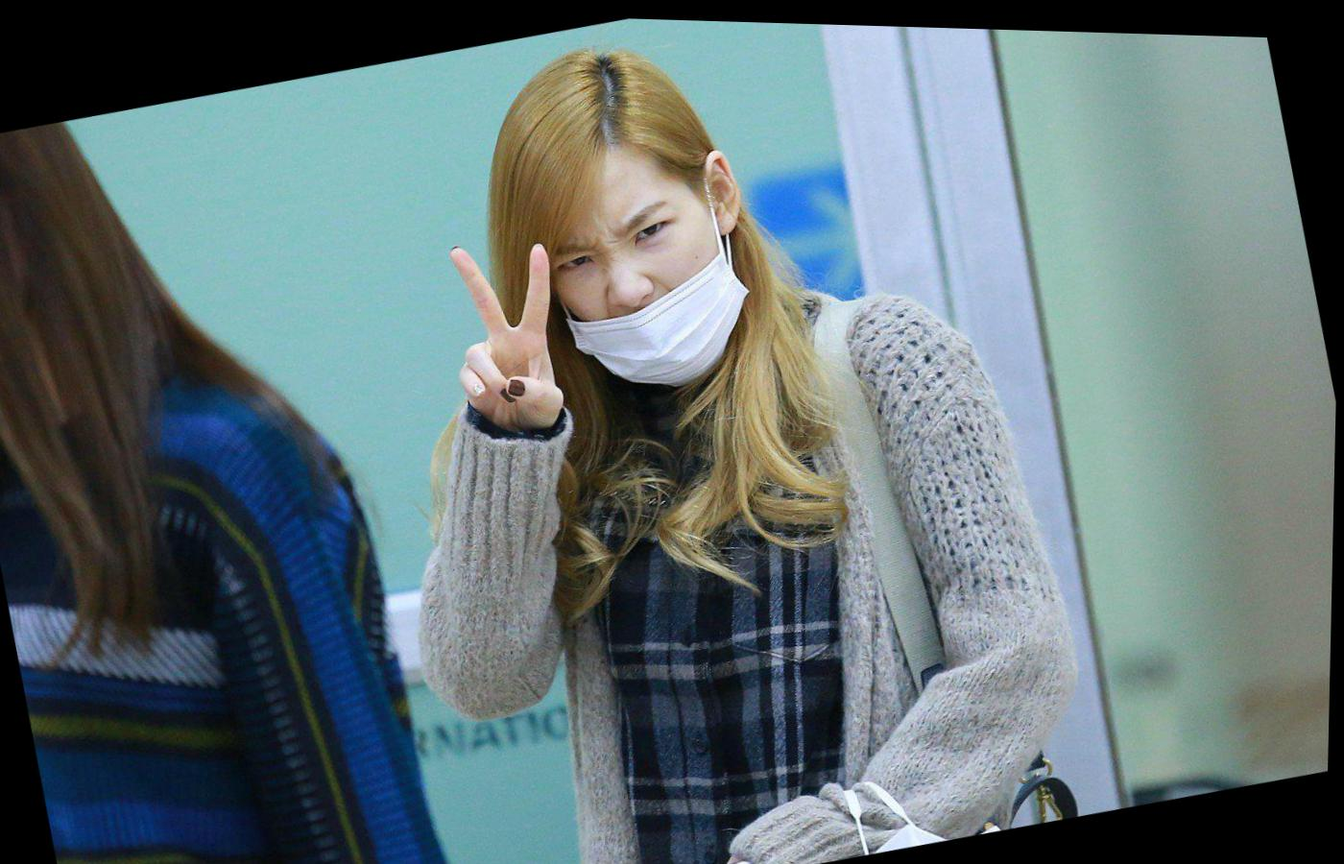WRONG: (534, 164, 757, 408)
